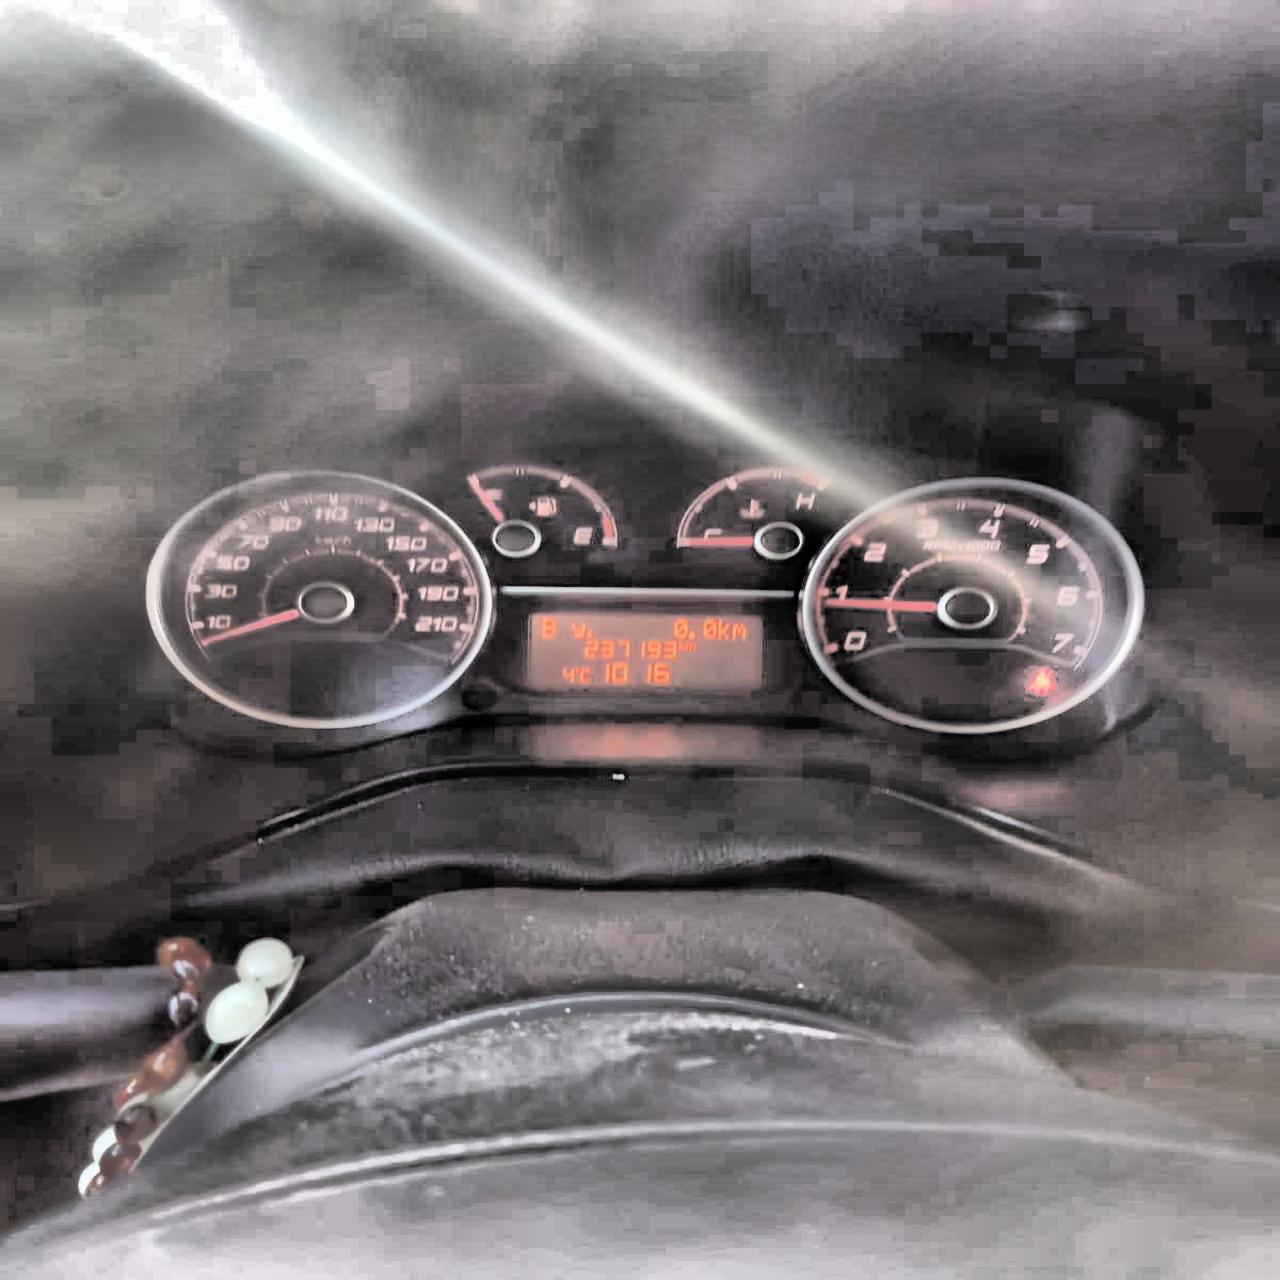-: (584, 629, 592, 638), (687, 629, 694, 639)
0: (610, 661, 627, 685), (701, 618, 717, 640), (672, 618, 688, 639)
1: (604, 662, 611, 683), (645, 662, 652, 682), (639, 640, 645, 659)
2: (583, 639, 598, 659)
3: (662, 639, 676, 659), (599, 640, 613, 659)
4: (561, 667, 574, 683)
6: (652, 662, 669, 683)
7: (617, 640, 629, 659)
9: (646, 640, 661, 659)
X: (542, 615, 557, 639), (715, 617, 729, 640), (730, 622, 745, 640), (570, 621, 585, 639), (578, 667, 591, 683), (685, 641, 695, 652), (676, 641, 685, 652)
odometer: (526, 611, 764, 692)
